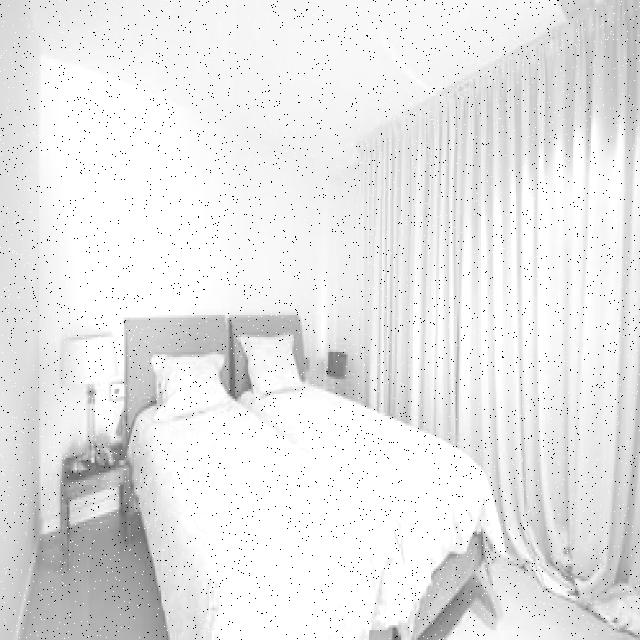bed: (119, 312, 492, 640)
